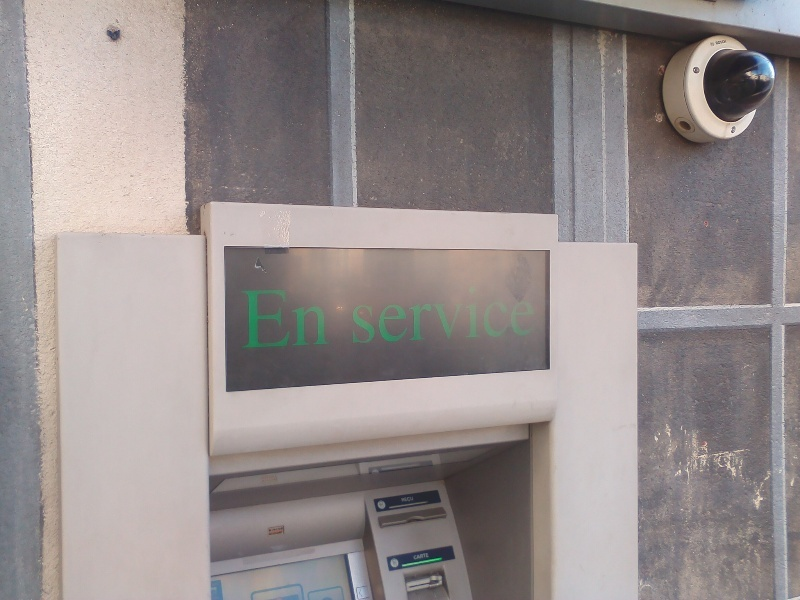text: (353, 281, 368, 345), (369, 281, 384, 345), (385, 281, 400, 345), (401, 281, 416, 345), (417, 281, 432, 345), (433, 281, 448, 345), (449, 281, 464, 345), (465, 281, 480, 345), (481, 281, 496, 345), (497, 281, 512, 345), (513, 281, 528, 345), (241, 289, 256, 351), (257, 289, 272, 351), (273, 289, 288, 351), (289, 289, 304, 351), (305, 289, 320, 351), (321, 289, 331, 351), (529, 281, 538, 345), (346, 281, 352, 345), (401, 496, 416, 504), (417, 552, 430, 561), (273, 527, 284, 536), (721, 40, 728, 46), (412, 552, 416, 561), (268, 527, 272, 536), (715, 40, 720, 46)
